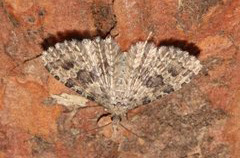Alucitidae: (36, 28, 202, 138)
moth: (38, 30, 204, 140)
